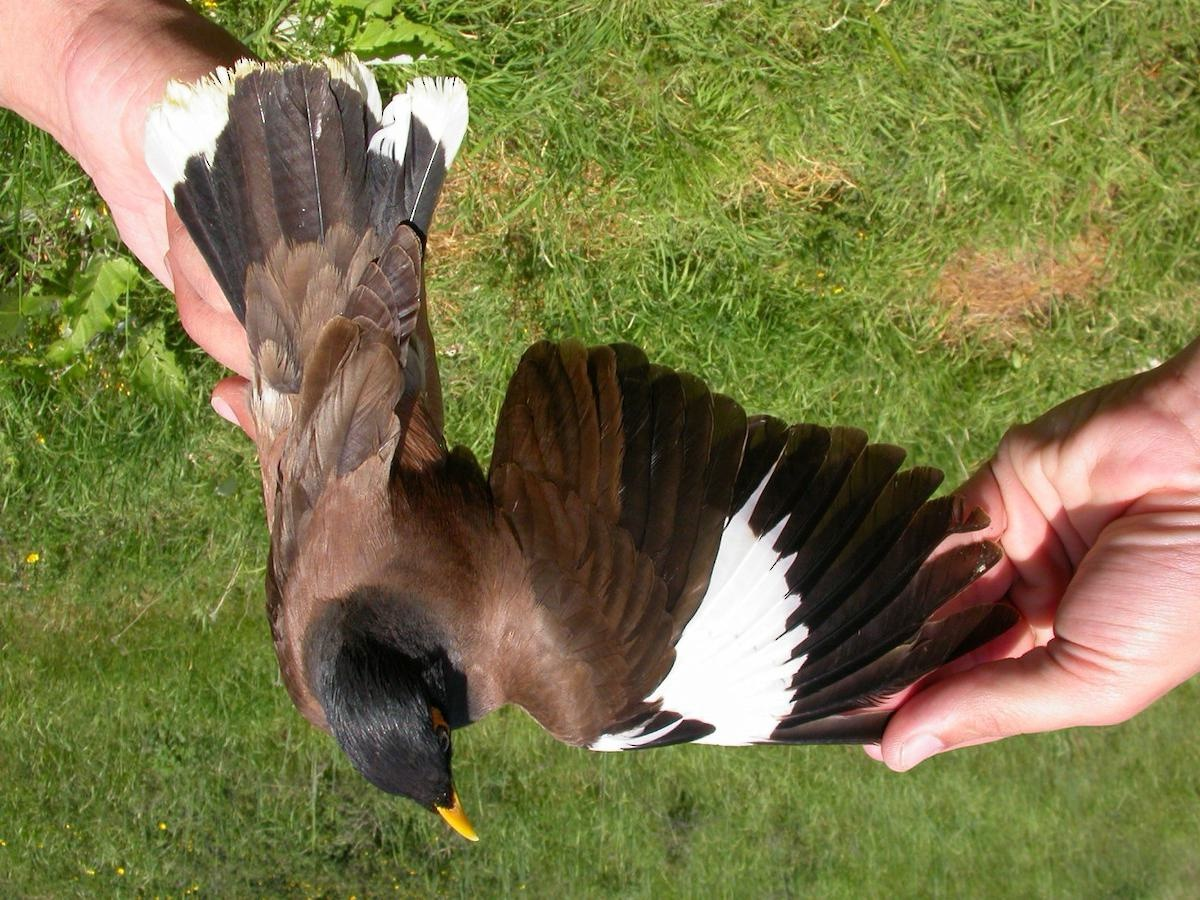myna: (219, 127, 974, 873)
